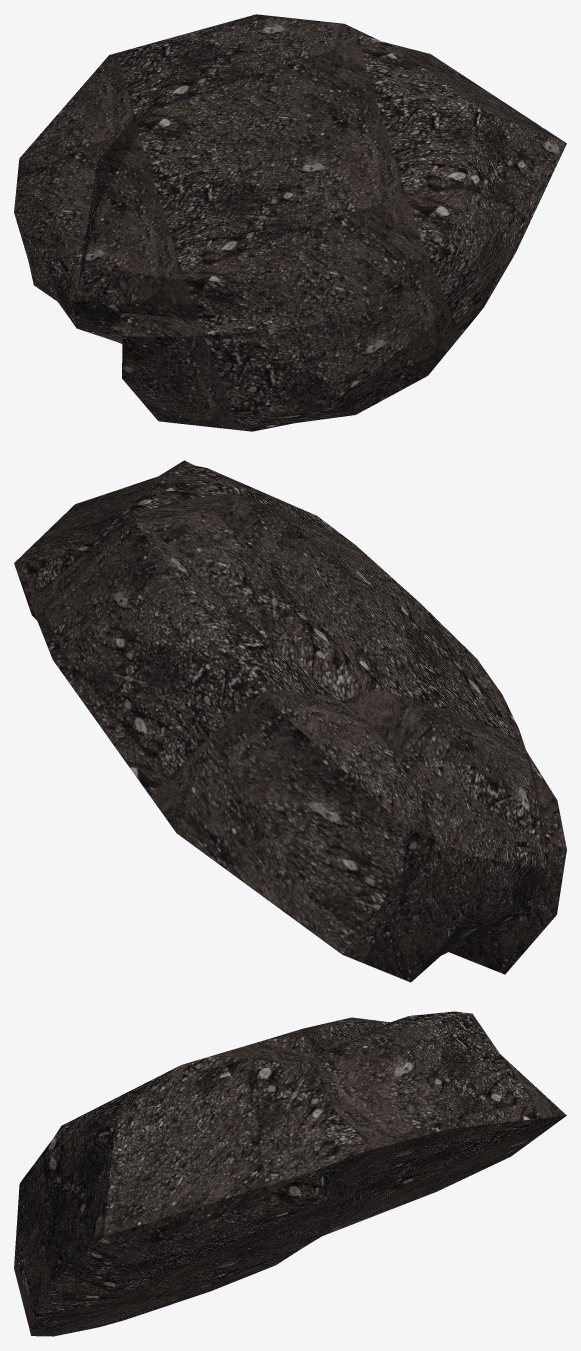
The model's file is rocamuro.obj.
3 renders of one model, top to bottom at view 1: azimuth 30°, elevation 25°; view 2: azimuth 150°, elevation 25°; view 3: azimuth 270°, elevation 25°, orthographic. The views are drawn at different scales.
Parts seen in each view (by area): view 1: Rock_Large_1; view 2: Rock_Large_1; view 3: Rock_Large_1.
Boxes of the visible parts, x1,y1,x2,y2 form: Rock_Large_1: [14, 14, 566, 431]; Rock_Large_1: [14, 460, 566, 982]; Rock_Large_1: [14, 1011, 566, 1336].
Size of the model in its own units: 147 by 105 by 143.
